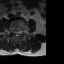CCS_normal: (16, 28, 17, 37)
LFS_normal: (19, 29, 22, 35)
LLS_normal: (17, 29, 19, 36)
RFS_normal: (12, 28, 14, 34)
RLS_normal: (14, 29, 16, 36)
